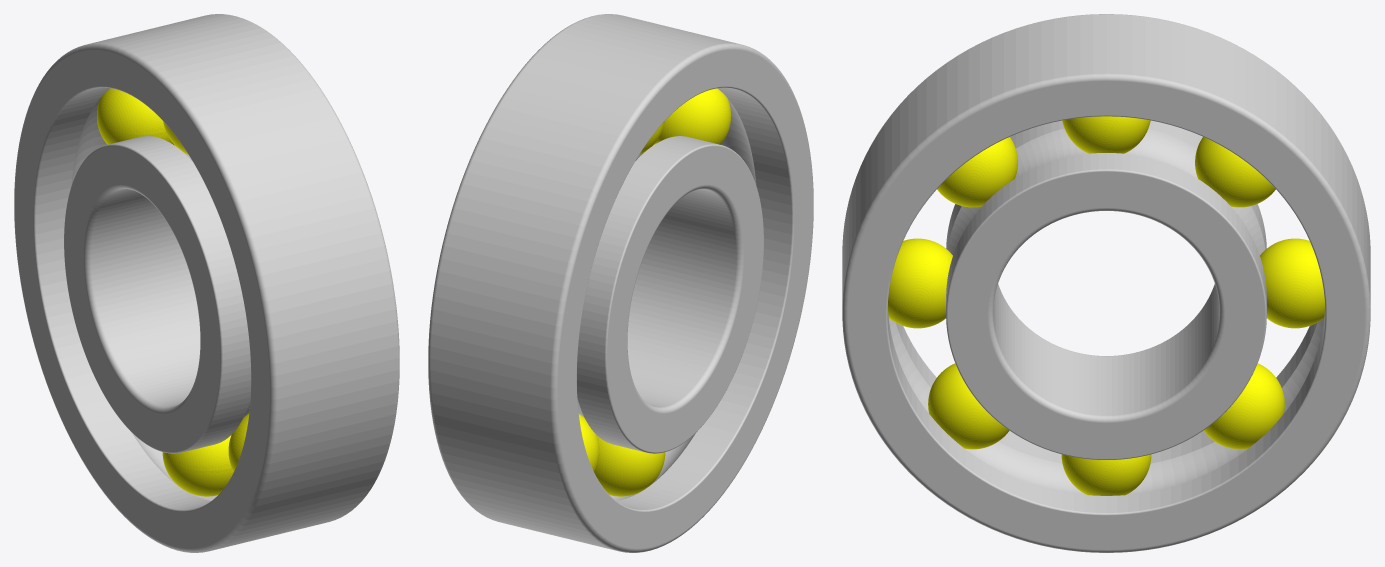
File: model_web.glb
The picture shows the model from 3 angles, left to right: view 1: azimuth 30°, elevation 25°; view 2: azimuth 150°, elevation 25°; view 3: azimuth 270°, elevation 25°; orthographic projection.
Parts seen in each view (by area): view 1: Node1, Node2; view 2: Node1, Node2; view 3: Node1, Node2.
Part boxes in pixels (x1,y1,x2,y2): Node1: (14, 14, 399, 552); Node2: (97, 88, 249, 496); Node1: (428, 14, 813, 552); Node2: (578, 88, 731, 496); Node1: (842, 14, 1370, 552); Node2: (888, 116, 1324, 495).
Size of the model in its own units: 8 by 28 by 27.99.
